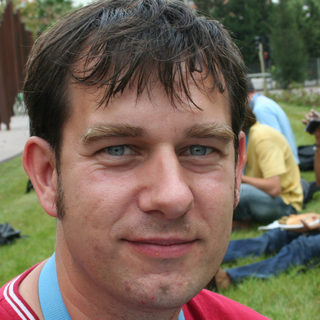eye: (91, 140, 145, 164), (177, 139, 223, 164)
